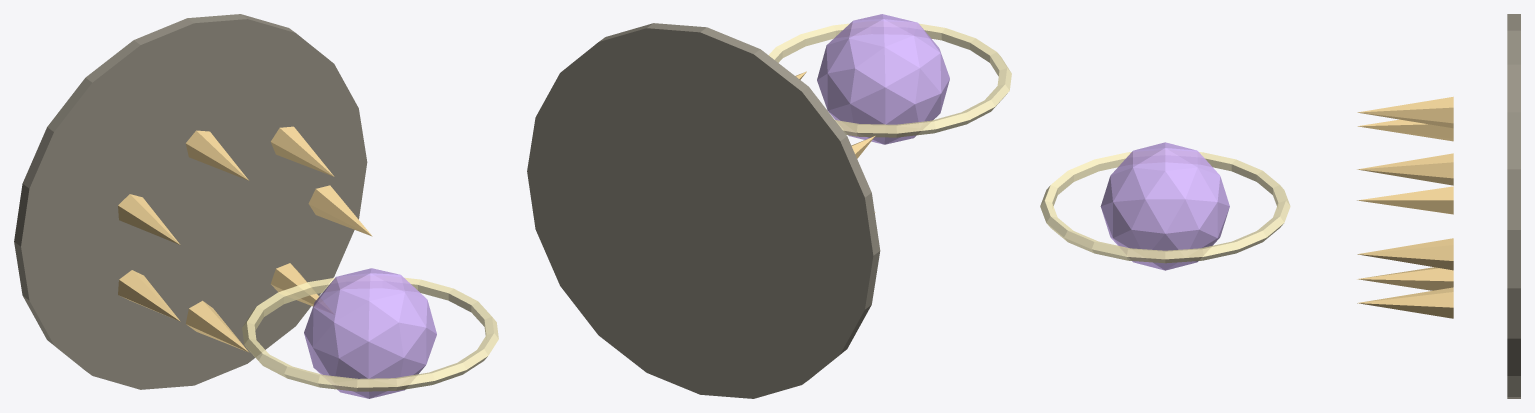
File: 06_weather_terrain_nature_module.glb
3 views of the same model, side by side, from view 1: azimuth 30°, elevation 25°; view 2: azimuth 150°, elevation 25°; view 3: azimuth 270°, elevation 25° (orthographic). The views are drawn at different scales.
Visible parts, largest first — view 1: terrain_patch, sun_color_preview, weather_halo, nature_or_weather_element_2, nature_or_weather_element_1, nature_or_weather_element_0, nature_or_weather_element_3, nature_or_weather_element_5, nature_or_weather_element_4, nature_or_weather_element_6; view 2: terrain_patch, sun_color_preview, weather_halo; view 3: sun_color_preview, weather_halo, terrain_patch, nature_or_weather_element_0, nature_or_weather_element_1, nature_or_weather_element_2, nature_or_weather_element_6, nature_or_weather_element_4, nature_or_weather_element_5, nature_or_weather_element_3.
Boxes of the visible parts, x1,y1,x2,y2 form: terrain_patch: (14, 14, 367, 389); sun_color_preview: (304, 268, 436, 398); weather_halo: (242, 277, 498, 391); nature_or_weather_element_2: (185, 130, 248, 180); nature_or_weather_element_1: (271, 126, 334, 176); nature_or_weather_element_0: (308, 185, 372, 236); nature_or_weather_element_3: (118, 194, 180, 244); nature_or_weather_element_5: (185, 300, 248, 352); nature_or_weather_element_4: (118, 270, 180, 321); nature_or_weather_element_6: (271, 263, 319, 306); terrain_patch: (527, 23, 880, 398); sun_color_preview: (817, 14, 949, 144); weather_halo: (768, 23, 1011, 137); sun_color_preview: (1100, 142, 1229, 270); weather_halo: (1040, 152, 1290, 263); terrain_patch: (1507, 14, 1520, 398); nature_or_weather_element_0: (1357, 238, 1453, 270); nature_or_weather_element_1: (1357, 153, 1453, 185); nature_or_weather_element_2: (1357, 96, 1453, 128); nature_or_weather_element_6: (1357, 287, 1453, 318); nature_or_weather_element_4: (1357, 186, 1453, 214); nature_or_weather_element_5: (1357, 267, 1453, 290); nature_or_weather_element_3: (1357, 119, 1453, 141).
Bounding box in the file's own units: 1.44 × 1.44 × 1.78.
